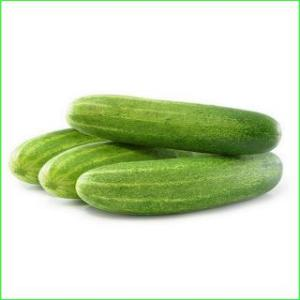cucumber: (58, 90, 284, 156), (74, 152, 284, 212)
